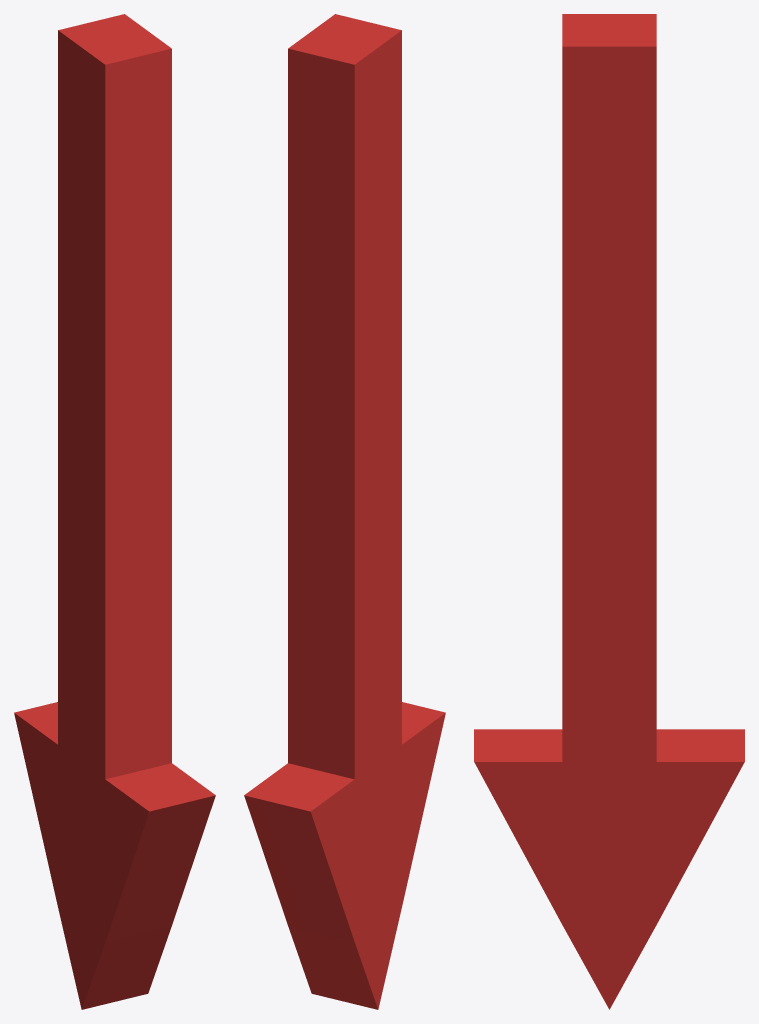
The model's file is ClockHourHand.fbx.
3 views of the same model, side by side, from view 1: azimuth 30°, elevation 25°; view 2: azimuth 150°, elevation 25°; view 3: azimuth 270°, elevation 25° (orthographic).
Parts seen in each view (by area): view 1: ClockHand4; view 2: ClockHand4; view 3: ClockHand4.
Boxes of the visible parts, x1,y1,x2,y2 form: ClockHand4: (14,14,215,1009); ClockHand4: (244,14,445,1009); ClockHand4: (474,14,744,1009).
Bounding box in the file's own units: 5738 × 79182 × 20168.
1 material, 1 textured.
